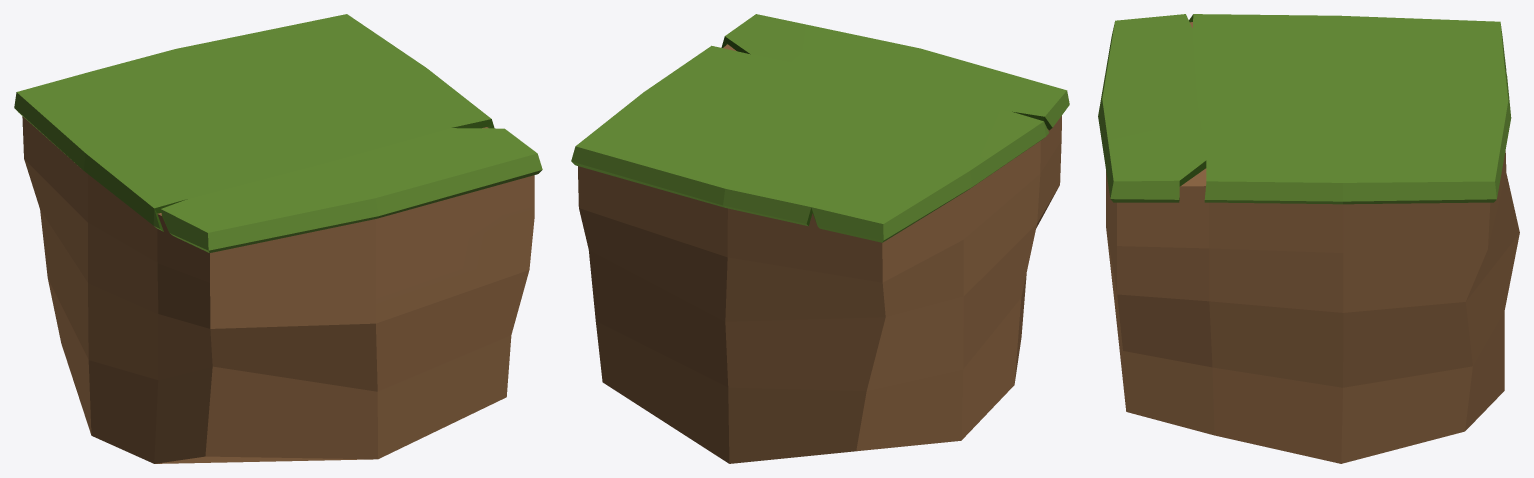
The model's file is ground1_top1.glb.
3 views of the same model, side by side, from view 1: azimuth 30°, elevation 25°; view 2: azimuth 150°, elevation 25°; view 3: azimuth 270°, elevation 25° (orthographic). The views are drawn at different scales.
Visible parts, largest first — view 1: Ground1; view 2: Ground1; view 3: Ground1.
Boxes of the visible parts, box(x1,y1,x2,y2) form: Ground1: box(14, 14, 542, 463); Ground1: box(571, 14, 1069, 463); Ground1: box(1098, 14, 1519, 463).
Size of the model in its own units: 2 by 1.72 by 2.07.
Materials: 1 (1 with a texture image).
